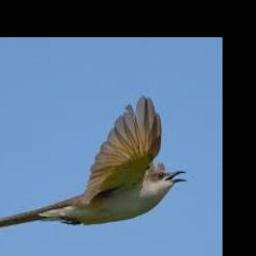Cuckoo: (0, 96, 187, 233)
